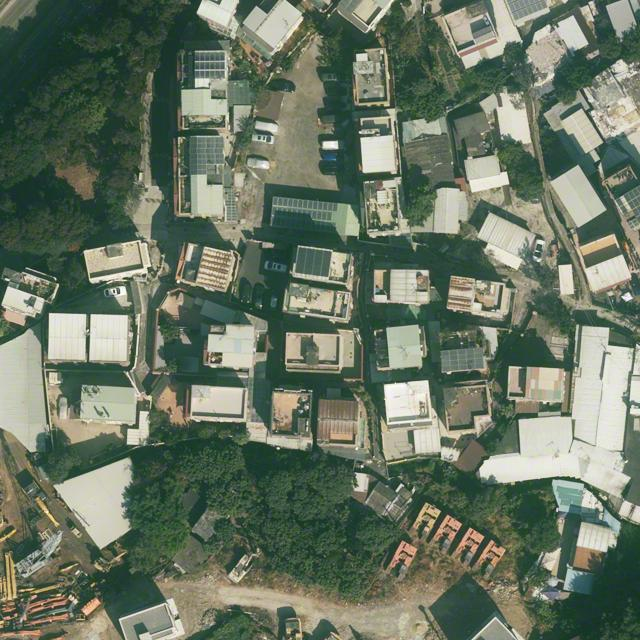panel: (293, 247, 333, 278), (271, 216, 337, 234), (270, 205, 332, 223), (271, 196, 339, 212), (441, 348, 484, 373), (193, 51, 227, 78), (189, 136, 223, 148), (190, 154, 224, 164), (188, 148, 224, 154), (191, 164, 206, 175)
